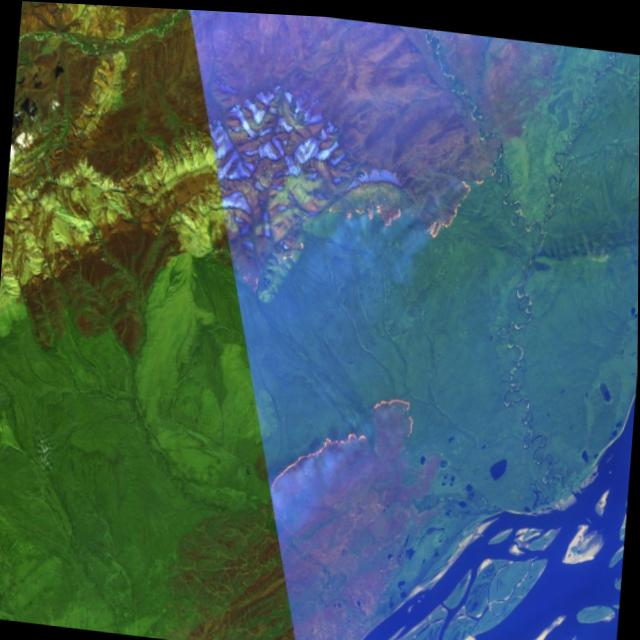fire: (270, 137, 492, 292), (269, 373, 421, 512)
